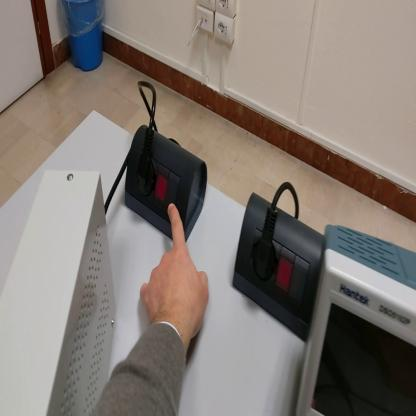hand: (140, 203, 209, 341)
oscilloscope: (294, 225, 416, 416)
power supply: (1, 166, 117, 416)
socket: (232, 192, 325, 346), (127, 124, 210, 248)
